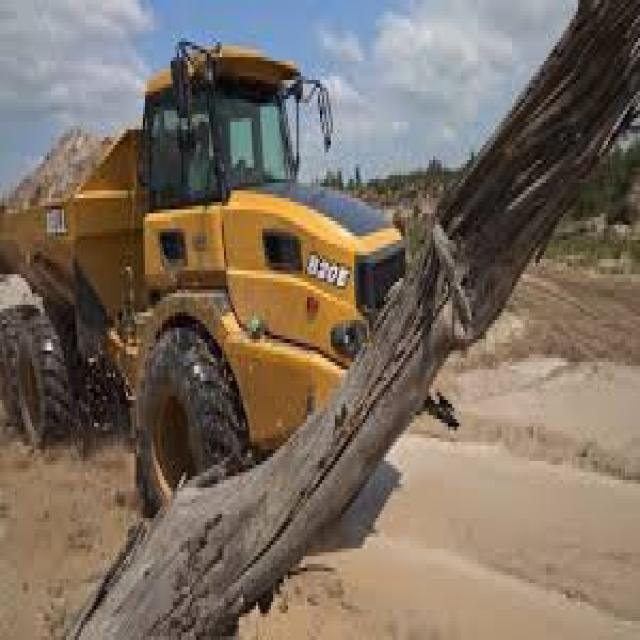dump_truck: (28, 46, 412, 544)
